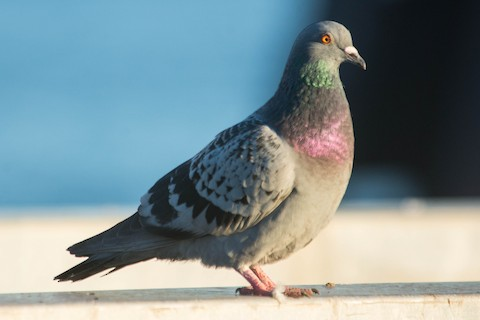pigeon: (54, 16, 388, 300)
